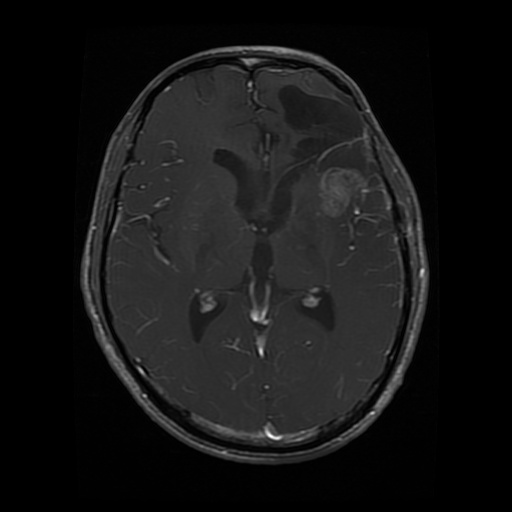glioma: (276, 83, 392, 240)
